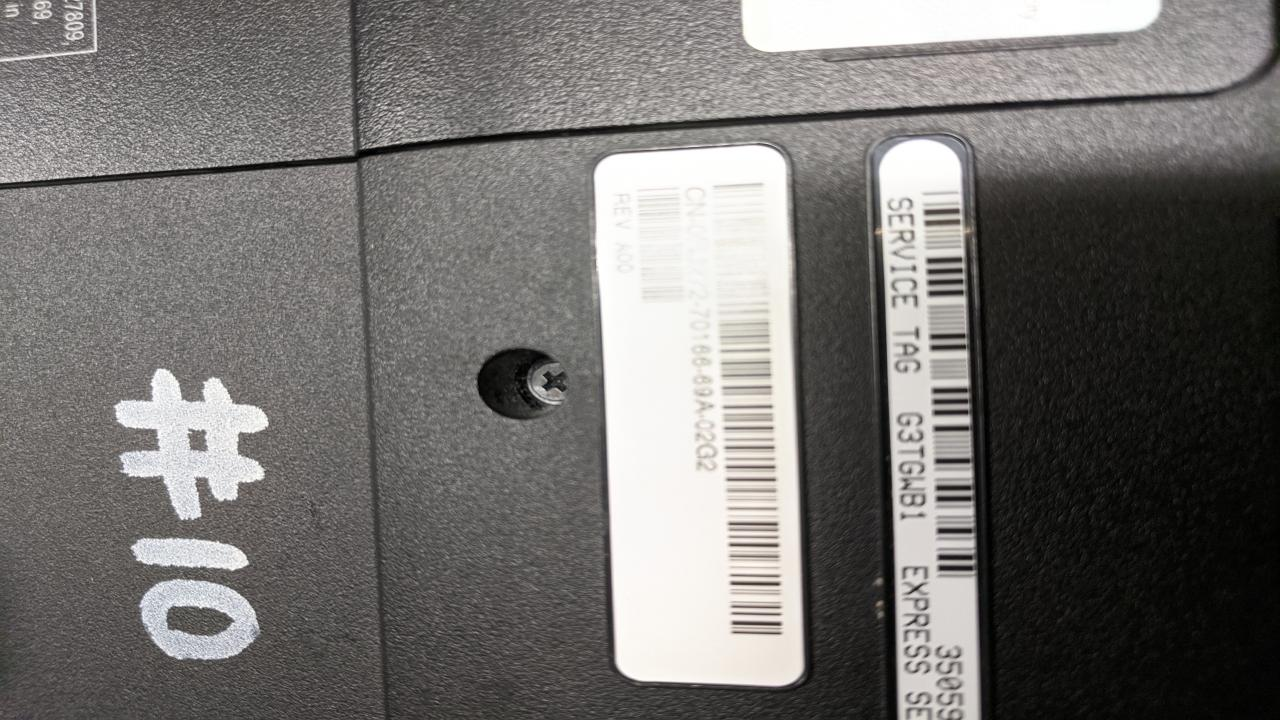CRS: (519, 354, 582, 404)
